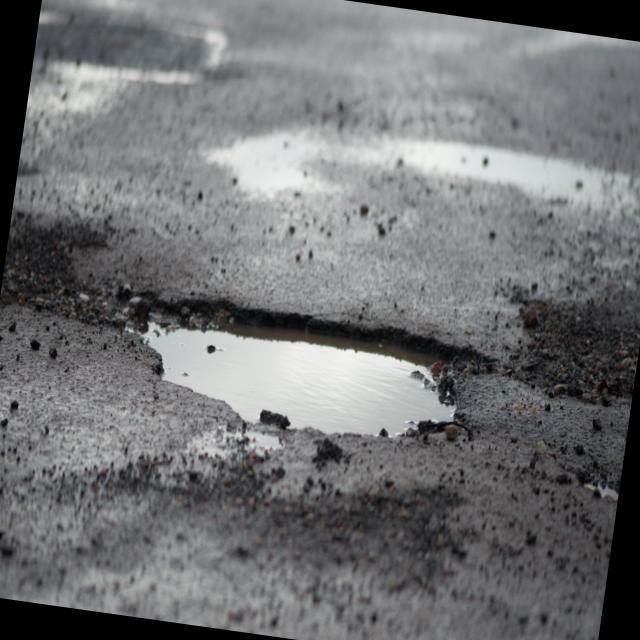Potholes: (105, 280, 492, 466)
